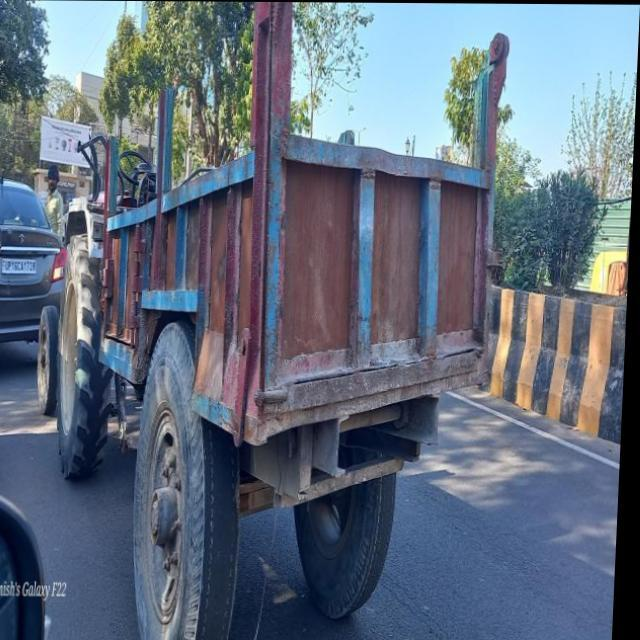uncovered: (40, 2, 509, 640)
